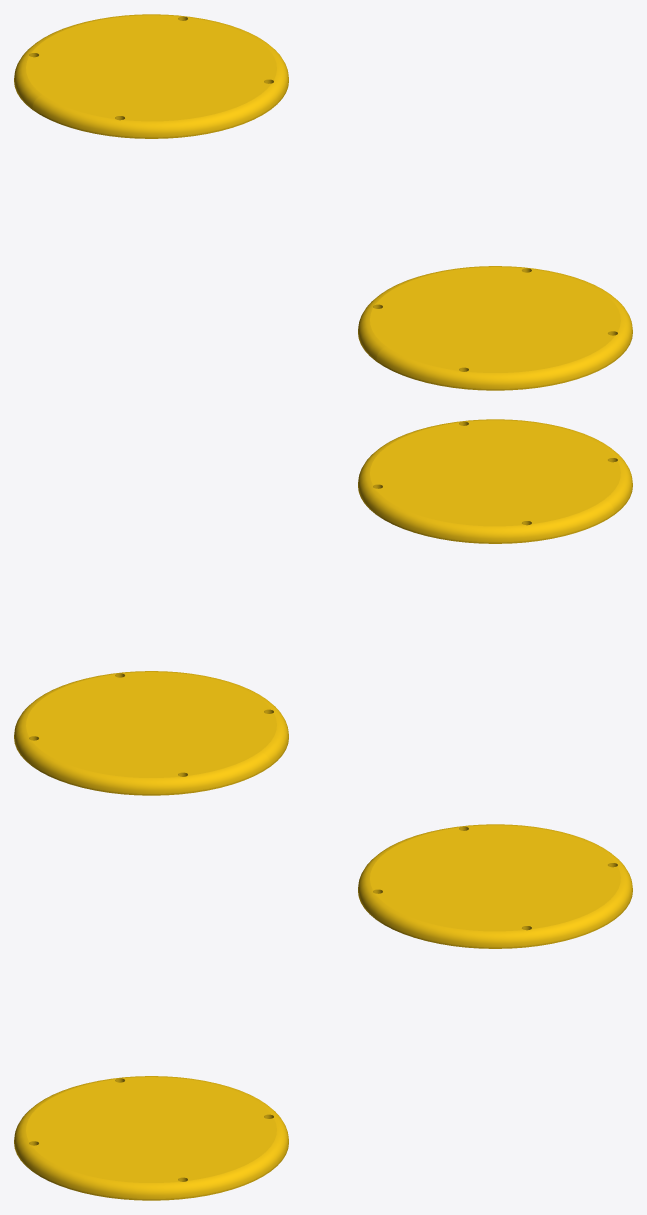
Rendered from BasePlastic.dae.
3 renders of one model, top to bottom at view 1: azimuth 30°, elevation 25°; view 2: azimuth 150°, elevation 25°; view 3: azimuth 330°, elevation 25°, orthographic.
Parts seen in each view (by area): view 1: YellowPlasticTopMesh; view 2: YellowPlasticTopMesh; view 3: YellowPlasticTopMesh.
Boxes of the visible parts, box(x1,y1,x2,y2) form: YellowPlasticTopMesh: box(14, 14, 632, 390); YellowPlasticTopMesh: box(14, 419, 632, 795); YellowPlasticTopMesh: box(14, 824, 632, 1200).
Bounding box in the file's own units: 0.08 × 0.28 × 0.00502.
